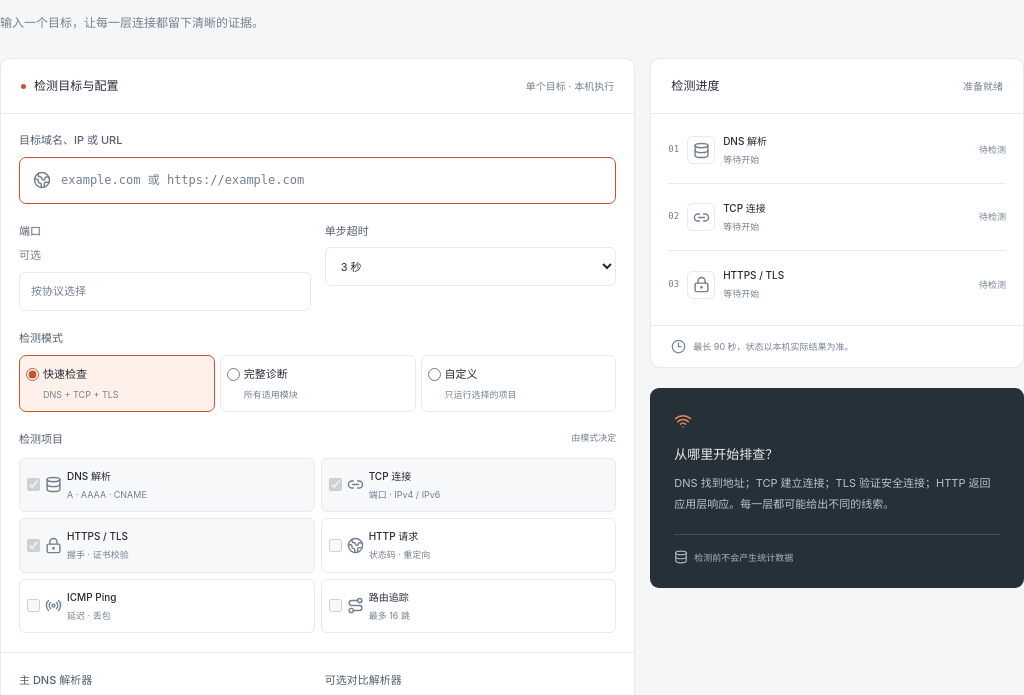
Test case: diagnosis flow › validates the target before submitting
In the field with placeholder "example.com 或 https://example.com": (332, 180) [61, 158, 602, 203], type "https://alice:secret@example.com"
(page scrolled)
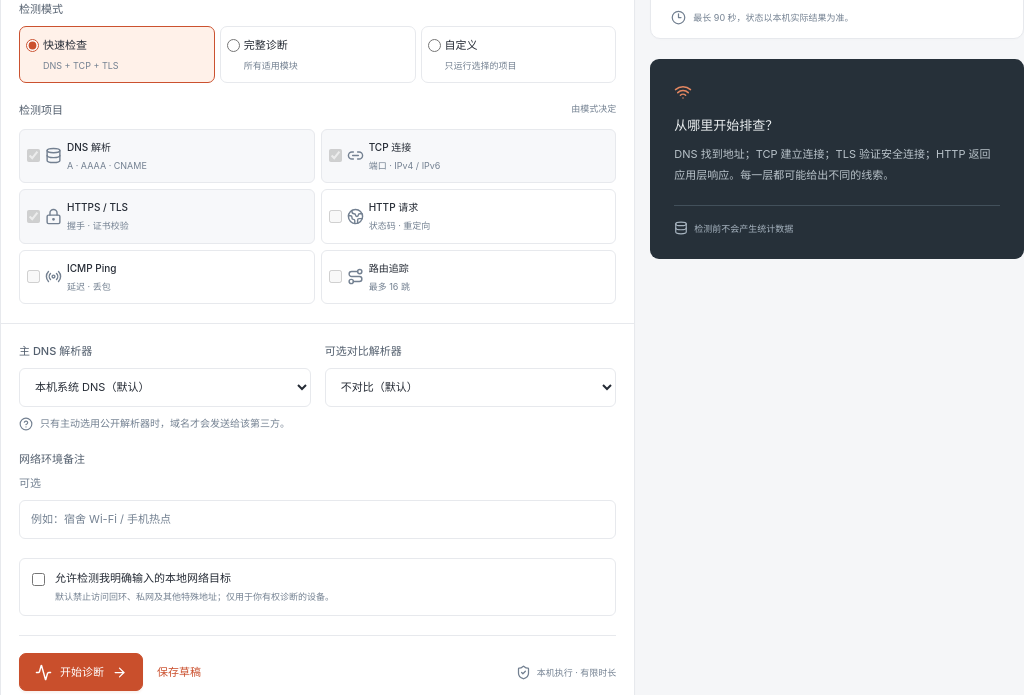
Click the button "开始诊断": (81, 672) [19, 654, 143, 692]
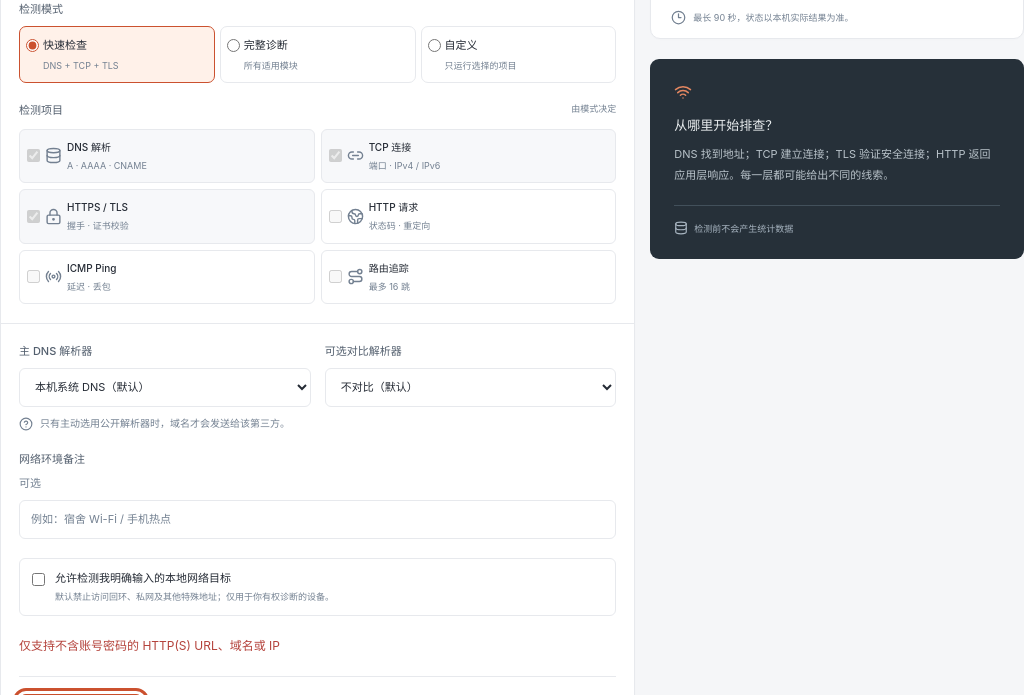
Now the message shows "仅支持不含账号密码", box [19, 638, 280, 654]
